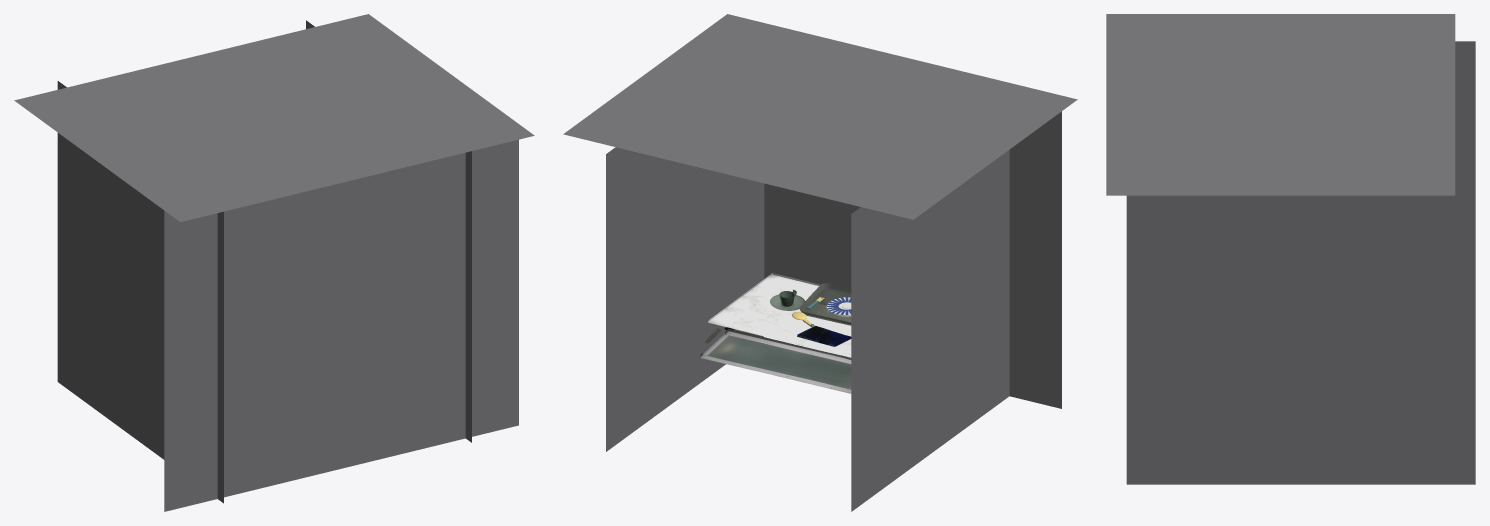
The model's file is viga.glb.
3 renders of one model, left to right at view 1: azimuth 30°, elevation 25°; view 2: azimuth 150°, elevation 25°; view 3: azimuth 270°, elevation 25°, orthographic. The views are drawn at different scales.
Parts seen in each view (by area): view 1: ENV_wall_back, ENV_ceiling, ENV_wall_left, ENV_wall_right; view 2: ENV_ceiling, ENV_wall_left, ENV_wall_right, ENV_wall_back, dark_metal_panel_mesh, marble_tabletop_mesh, green_serving_tray_mesh, blue_folded_napkin_mesh; view 3: ENV_wall_right, ENV_ceiling, ENV_wall_left.
Boxes of the visible parts, bbox=[...] form: ENV_wall_back: bbox=[164, 139, 518, 511]; ENV_ceiling: bbox=[14, 14, 534, 221]; ENV_wall_left: bbox=[57, 81, 223, 503]; ENV_wall_right: bbox=[306, 20, 471, 442]; ENV_ceiling: bbox=[563, 14, 1077, 219]; ENV_wall_left: bbox=[851, 150, 1009, 511]; ENV_wall_right: bbox=[606, 147, 764, 451]; ENV_wall_back: bbox=[764, 111, 1061, 408]; dark_metal_panel_mesh: bbox=[700, 328, 851, 393]; marble_tabletop_mesh: bbox=[708, 273, 851, 357]; green_serving_tray_mesh: bbox=[799, 283, 851, 325]; blue_folded_napkin_mesh: bbox=[797, 326, 851, 346]; ENV_wall_right: bbox=[1126, 168, 1475, 484]; ENV_ceiling: bbox=[1106, 14, 1455, 195]; ENV_wall_left: bbox=[1455, 41, 1475, 168].
Size of the model in its own units: 3.2 by 2.6 by 2.75.
Materials: 16 (9 with a texture image).
